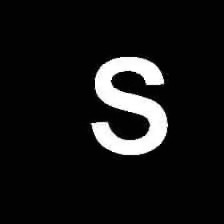LTR_S: (87, 52, 172, 157)
